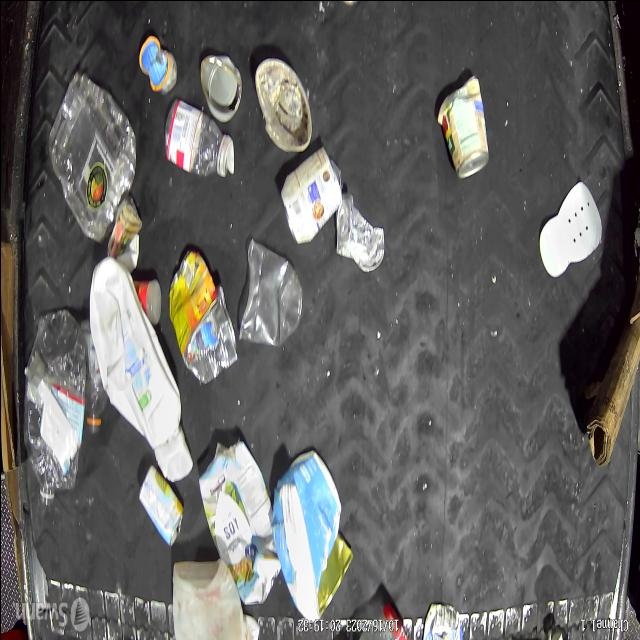can: (282, 146, 344, 252), (436, 74, 493, 182), (188, 285, 238, 389), (331, 196, 386, 277), (138, 463, 184, 549), (198, 45, 242, 123)
milk_jug: (86, 252, 182, 448)
plastic_bottle: (20, 292, 85, 508), (163, 90, 234, 176), (77, 330, 113, 454)
